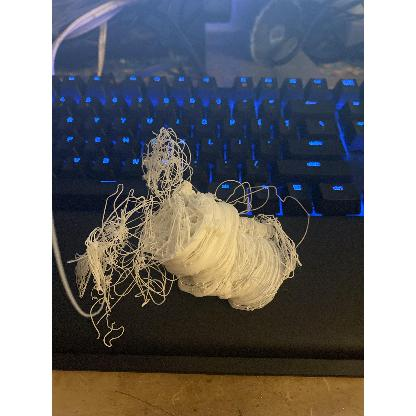fail: (68, 122, 310, 324)
